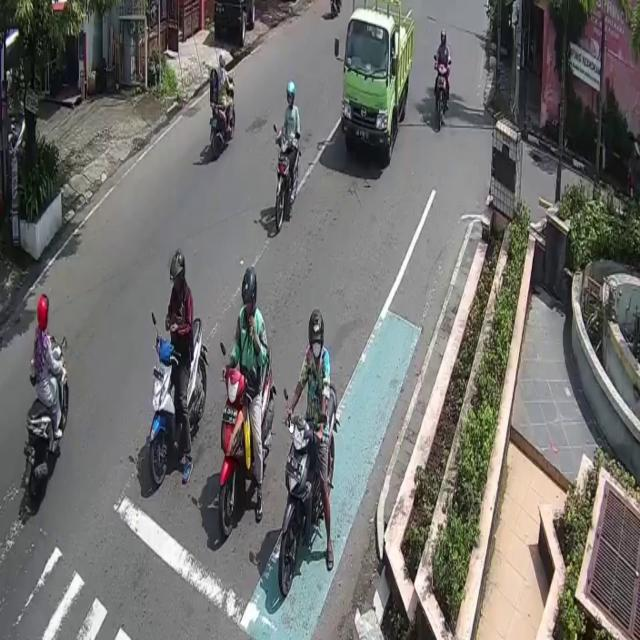bus: (282, 385, 342, 597), (216, 342, 273, 540), (148, 317, 208, 488), (24, 331, 70, 509), (273, 135, 302, 231), (211, 76, 236, 157), (433, 61, 448, 122)
truck: (341, 0, 413, 163)
